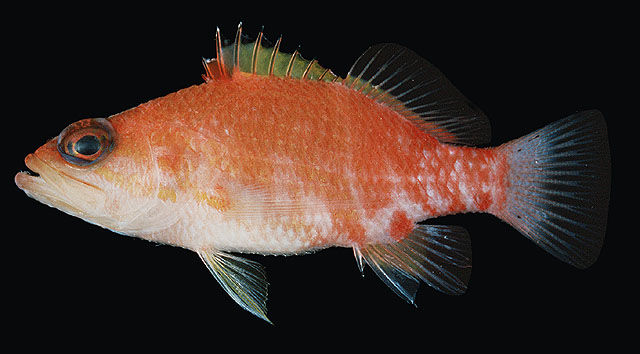fish: (15, 23, 612, 327)
